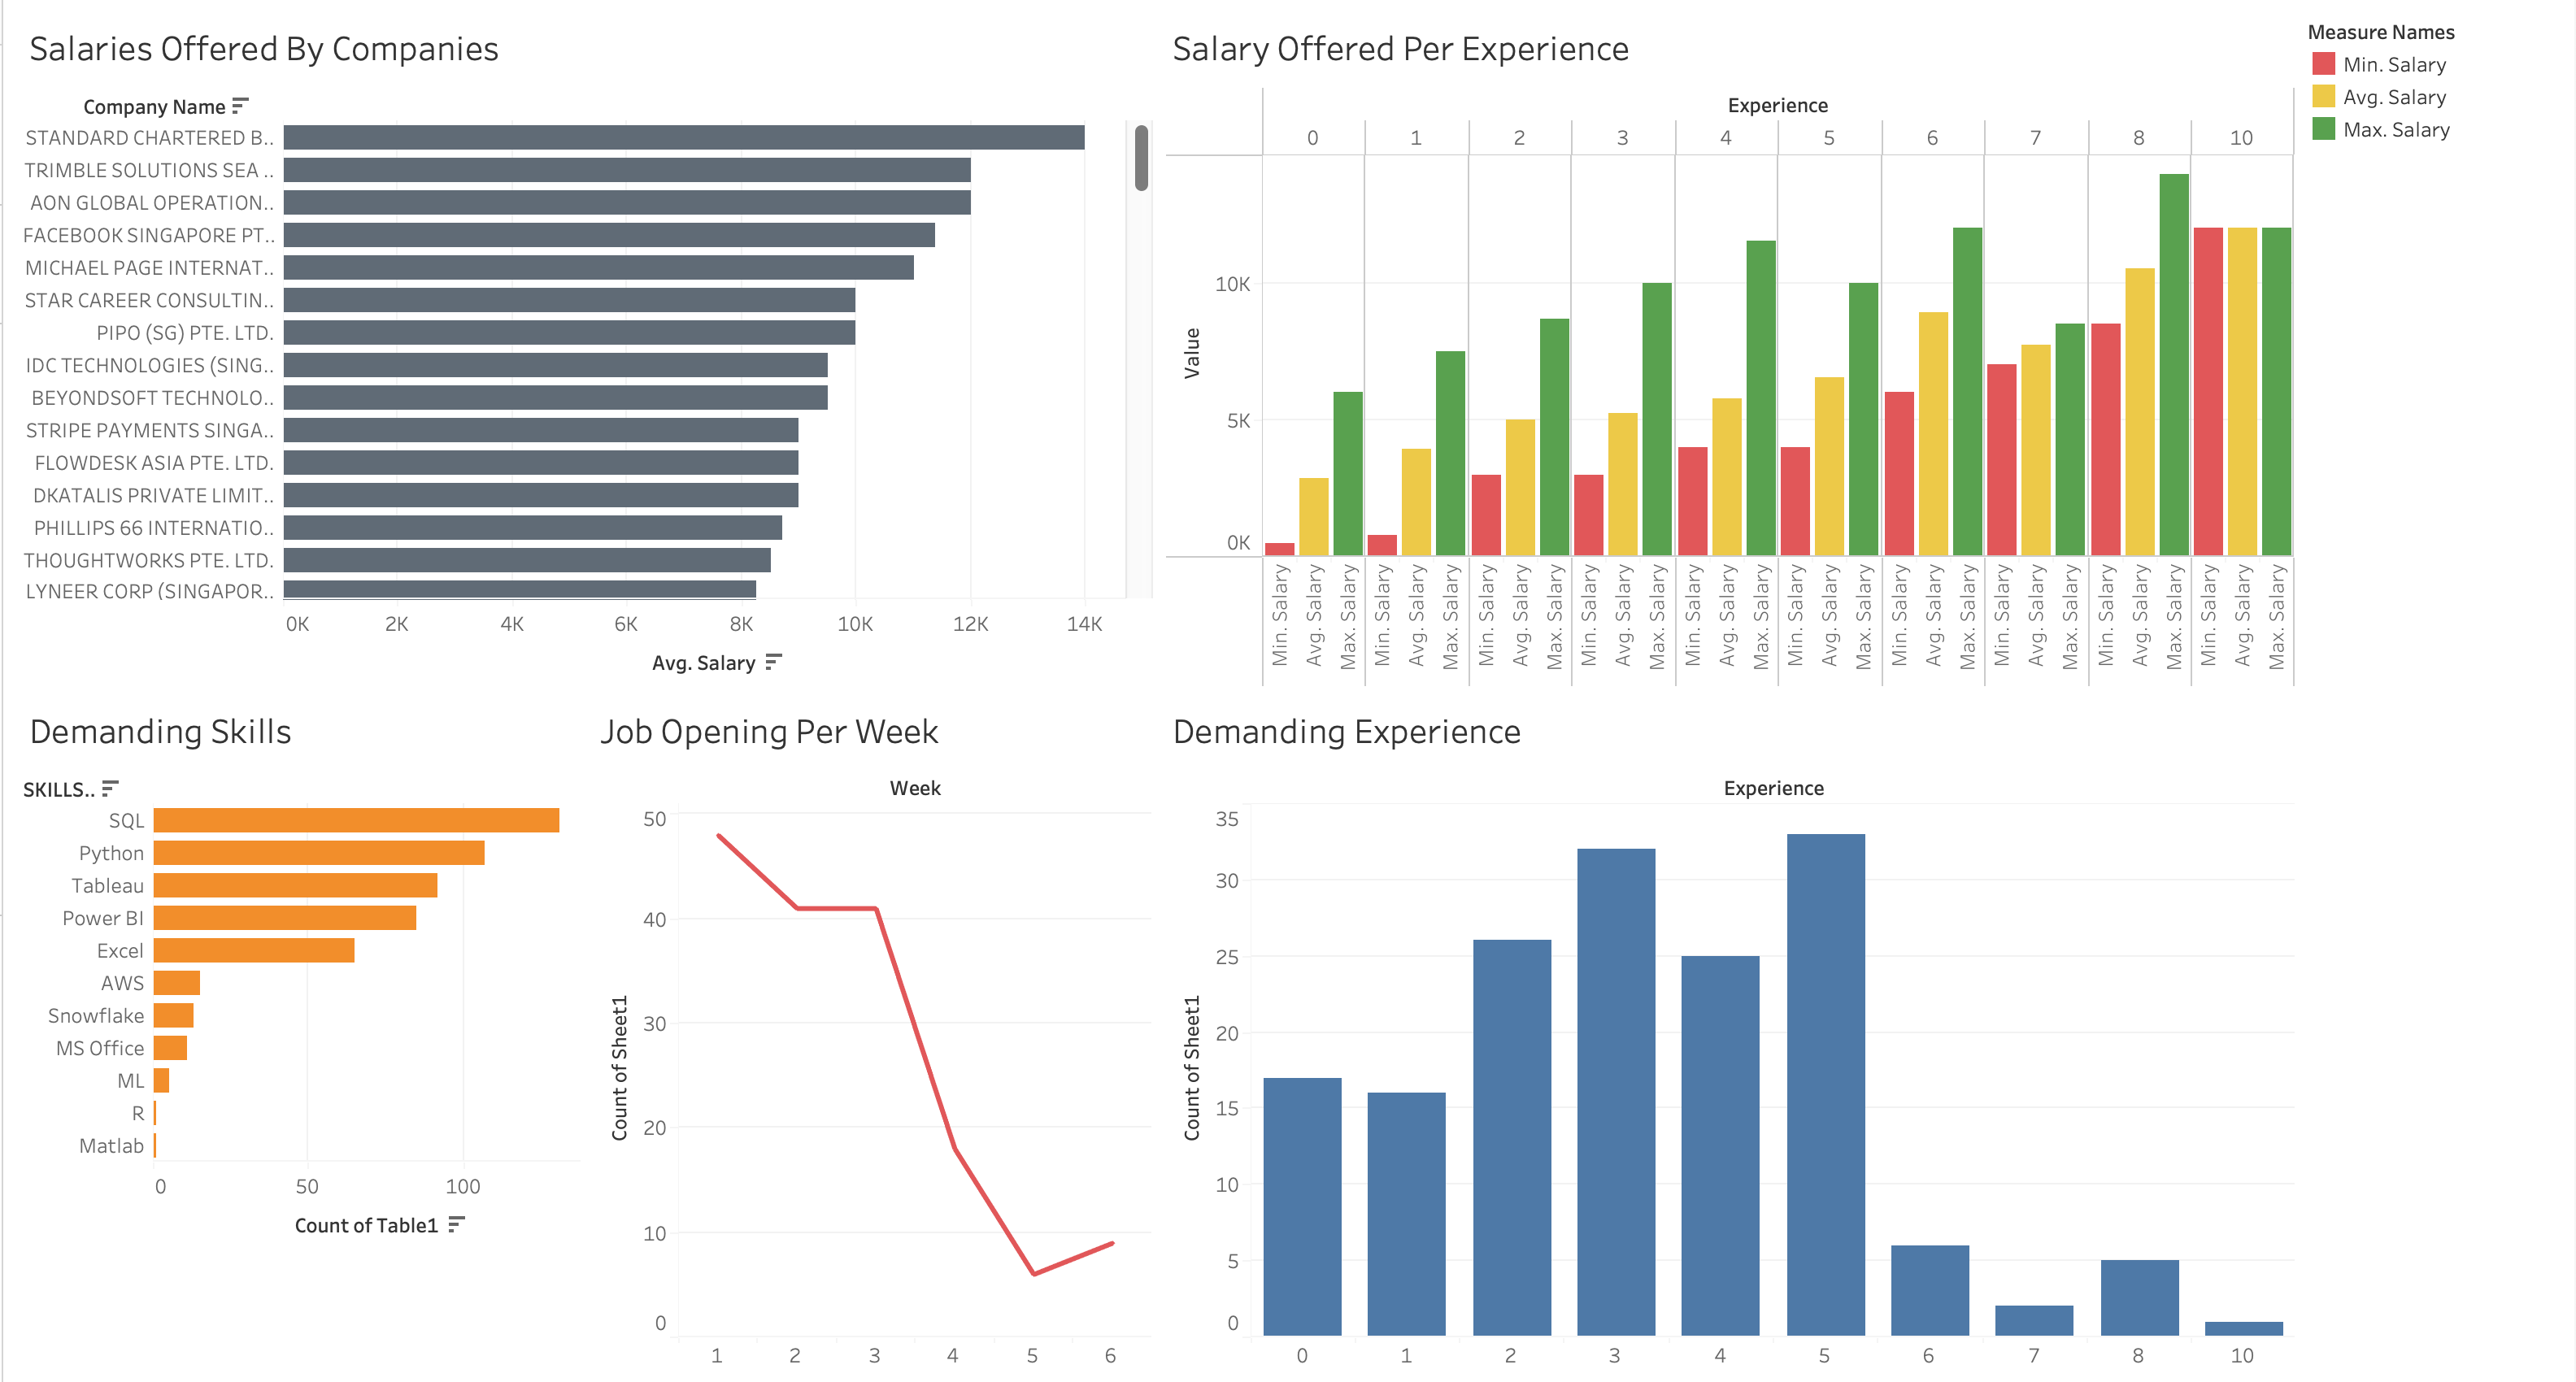

The page's visual inventory and layout, read from the dashboard file:
{"tool":"tableau","page":{"name":"Dashboard 1","canvas":[1000,1000],"units":"permille","ordinal":0},"visuals":[{"type":"worksheet","title":"SALARIES OFFERED BY COMPANIES","mark":"Automatic","rows":["COMPANY NAME"],"cols":["SALARY"],"box":[6,10.9,494,978.3]},{"type":"worksheet","title":"DATA COLLECTED OVER A WEEK","mark":"Automatic","rows":["Sheet1_AE022CC7A53B4A2AAAB61FBECADE0CCB"],"cols":["WEEK"],"box":[500,10.9,247,489.1]},{"type":"worksheet","title":"DEMANDING SKILLS","mark":"Automatic","rows":["SKILLS (Table1)"],"cols":["Table1_F1719C288430498A831BD60E296989E8"],"box":[747,10.9,247,489.1]},{"type":"worksheet","title":"DEMANDING EXPERIENCE","mark":"Automatic","rows":["Sheet1_AE022CC7A53B4A2AAAB61FBECADE0CCB"],"cols":["EXPERIENCE"],"box":[500,500,247,489.1]},{"type":"worksheet","title":"SALARY OFFERED PER EXPERIENCE","mark":"Automatic","rows":["SALARY"],"cols":["EXPERIENCE"],"box":[747,500,247,489.1]}]}

Visuals, with their boxes on the dashboard's canvas, which has no fixed pixel size, in thousandths of its width and height (x1, y1, x2, y2). These are canvas units, not pixel positions in the 2576x1382 screenshot, which may show the page scaled, cropped or inside an application window:
"SALARIES OFFERED BY COMPANIES" worksheet: box(6, 11, 500, 989)
"DATA COLLECTED OVER A WEEK" worksheet: box(500, 11, 747, 500)
"DEMANDING SKILLS" worksheet: box(747, 11, 994, 500)
"DEMANDING EXPERIENCE" worksheet: box(500, 500, 747, 989)
"SALARY OFFERED PER EXPERIENCE" worksheet: box(747, 500, 994, 989)
